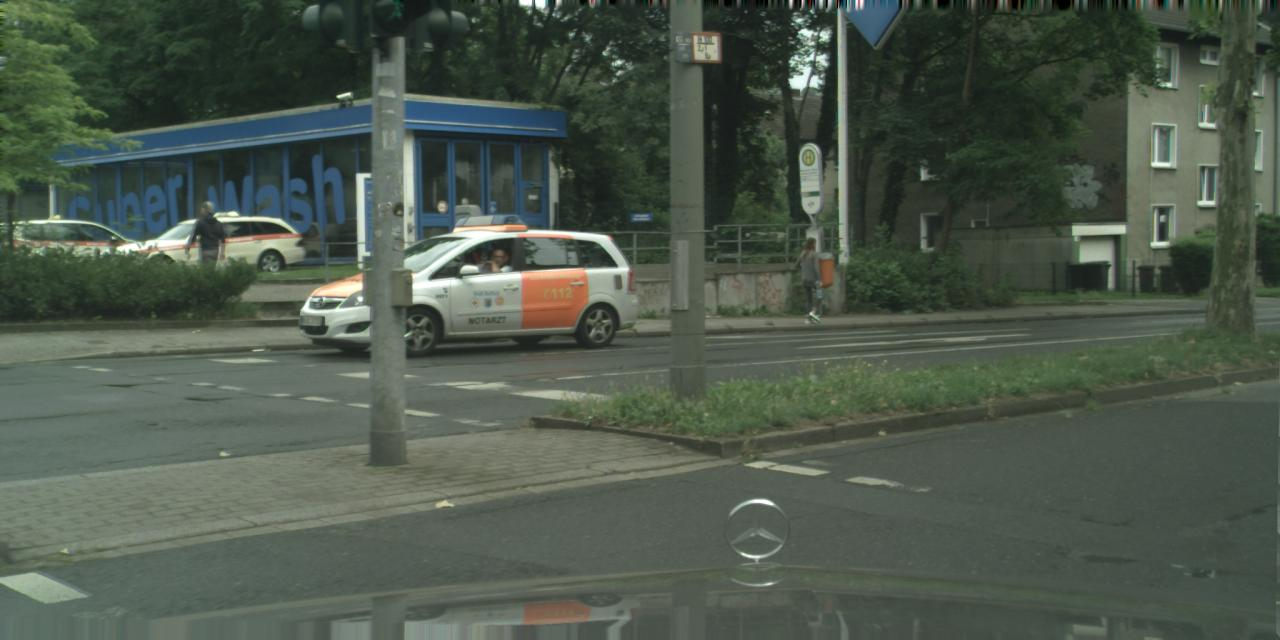ped: (190, 200, 230, 300), (794, 236, 828, 323)
